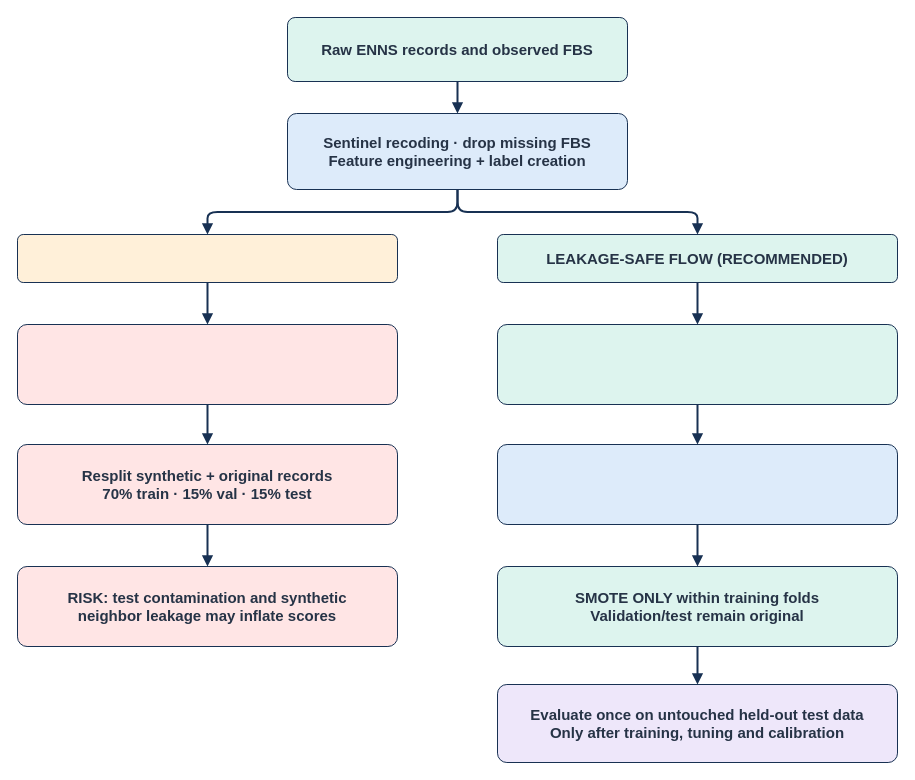
The diagram is 915 pixels wide and 780 high, and some of its shapes have lost their labels. The shapes that lost their labels are listed below. From the top down, each one's centre as x and y in pixels, then its label:
At point 207,258: "RECORDED V2 FLOW".
At point 207,364: "Imputation, IQR, scaling, feature filter SMOTE on full preprocessed data".
At point 697,364: "Split original data 70/15/15 Group-based split if needed".
At point 697,484: "Fit imputer/IQR/scaler/selection on train Apply unchanged to validation and test".
